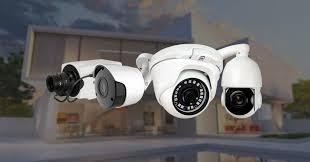maru: (147, 46, 224, 123), (89, 62, 145, 116), (222, 54, 265, 122)
